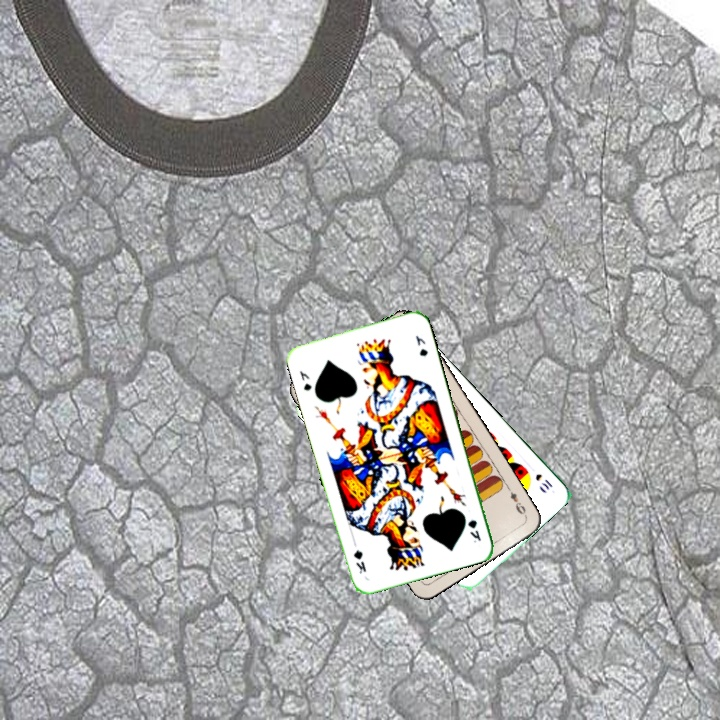E9: (503, 483, 530, 520)
GK: (464, 516, 484, 545), (295, 366, 314, 393)
S10: (531, 470, 555, 492)
